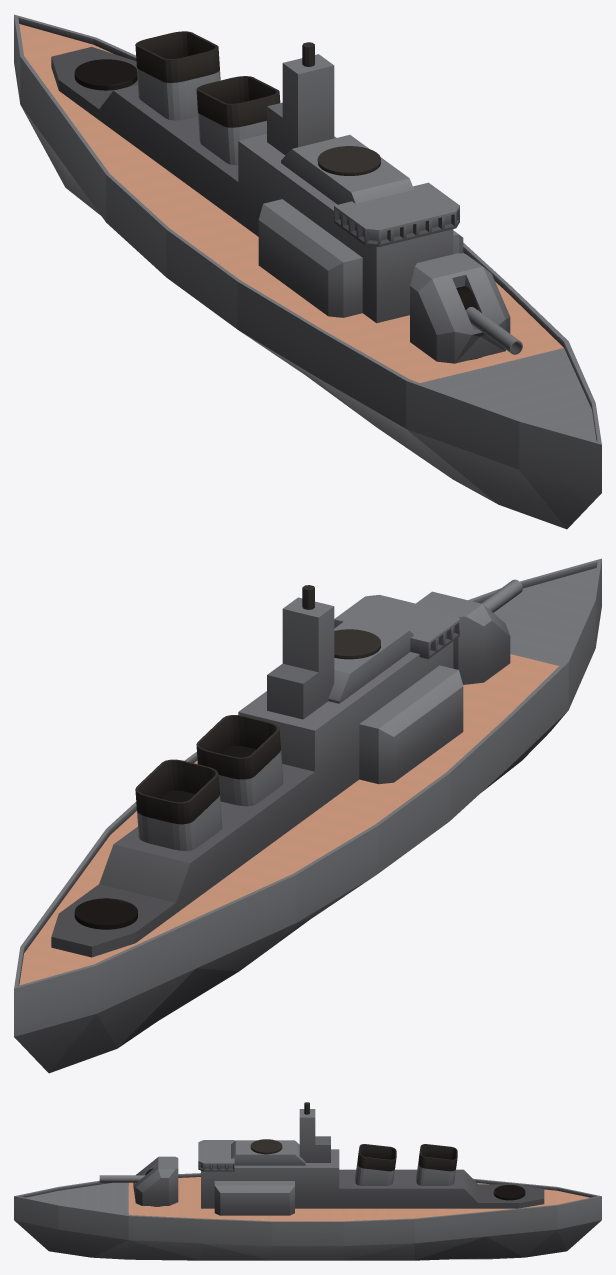
The model's file is Ships_texture.fbx.
The picture shows the model from 3 angles, top to bottom: view 1: azimuth 30°, elevation 25°; view 2: azimuth 150°, elevation 25°; view 3: azimuth 270°, elevation 25°; orthographic projection. The views are drawn at different scales.
Visible parts, largest first — view 1: Cube.097, Cube.446, Cube.445, Cube.450, Cube.220, Cube.093, Cube.078, Cube.056, Cube.447, Cylinder.418, Cylinder.412, Cylinder.413; view 2: Cube.097, Cube.446, Cube.445, Cube.220, Cube.078, Cube.056, Cube.450, Cube.093, Cube.447, Cylinder.418, Cylinder.412; view 3: Cube.097, Cube.446, Cube.445, Cube.450, Cube.056, Cube.220, Cube.447, Cube.078, Cube.093, Cylinder.418, Cylinder.412, Cylinder.413.
Boxes of the visible parts, x1=… form: Cube.097: x1=14, y1=14, x2=601, y2=529; Cube.446: x1=51, y1=47, x2=453, y2=323; Cube.445: x1=258, y1=199, x2=463, y2=317; Cube.450: x1=410, y1=253, x2=510, y2=363; Cube.220: x1=135, y1=31, x2=220, y2=120; Cube.093: x1=334, y1=182, x2=459, y2=246; Cube.078: x1=267, y1=54, x2=334, y2=155; Cube.056: x1=196, y1=76, x2=280, y2=165; Cube.447: x1=281, y1=135, x2=413, y2=204; Cylinder.418: x1=74, y1=59, x2=137, y2=90; Cylinder.412: x1=317, y1=146, x2=380, y2=175; Cylinder.413: x1=466, y1=307, x2=522, y2=354; Cube.097: x1=14, y1=558, x2=601, y2=1073; Cube.446: x1=51, y1=641, x2=453, y2=957; Cube.445: x1=359, y1=665, x2=463, y2=784; Cube.220: x1=135, y1=759, x2=222, y2=850; Cube.078: x1=267, y1=597, x2=334, y2=719; Cube.056: x1=196, y1=715, x2=283, y2=806; Cube.450: x1=416, y1=591, x2=510, y2=684; Cube.093: x1=334, y1=594, x2=459, y2=658; Cube.447: x1=328, y1=616, x2=413, y2=703; Cylinder.418: x1=74, y1=898, x2=137, y2=929; Cylinder.412: x1=334, y1=629, x2=380, y2=659; Cube.097: x1=14, y1=1173, x2=601, y2=1260; Cube.446: x1=201, y1=1149, x2=544, y2=1208; Cube.445: x1=214, y1=1181, x2=294, y2=1215; Cube.450: x1=133, y1=1156, x2=178, y2=1205; Cube.056: x1=355, y1=1144, x2=396, y2=1185; Cube.220: x1=416, y1=1144, x2=457, y2=1185; Cube.447: x1=231, y1=1140, x2=305, y2=1165; Cube.078: x1=299, y1=1109, x2=330, y2=1162; Cube.093: x1=198, y1=1140, x2=234, y2=1171; Cylinder.418: x1=493, y1=1184, x2=525, y2=1200; Cylinder.412: x1=250, y1=1139, x2=282, y2=1154; Cylinder.413: x1=99, y1=1175, x2=144, y2=1182.
Bounding box in the file's own units: 321 × 451 × 1541.
1 material, 1 textured.
